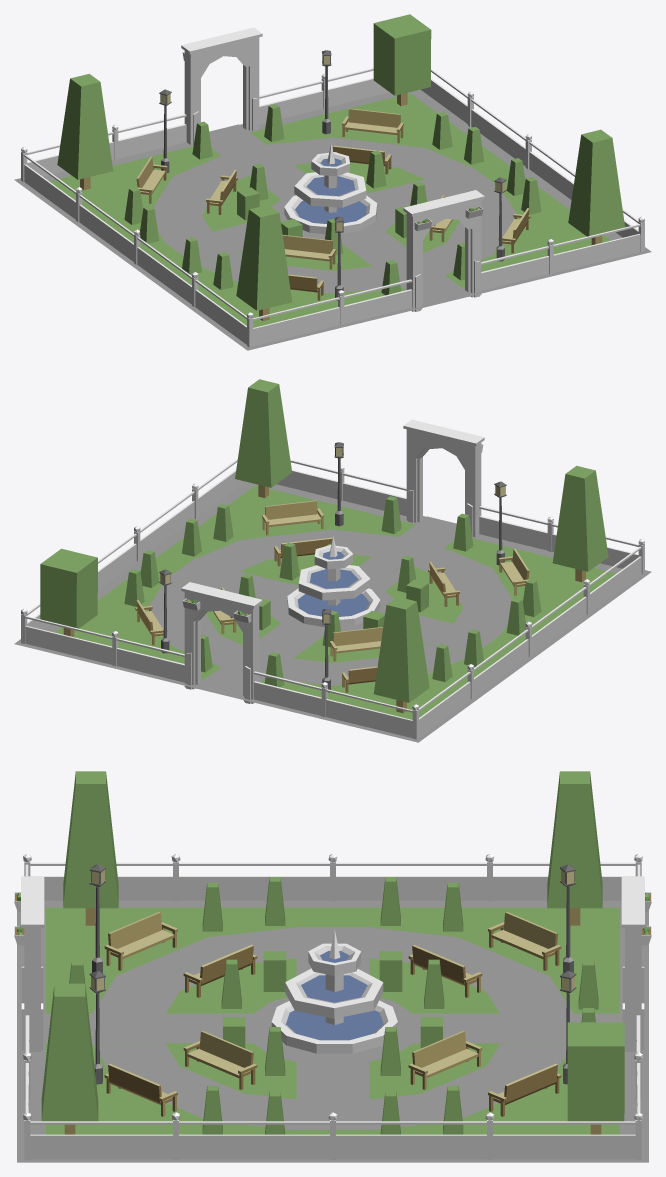
Rendered from park_003.fbx.
The picture shows the model from 3 angles, top to bottom: view 1: azimuth 30°, elevation 25°; view 2: azimuth 150°, elevation 25°; view 3: azimuth 270°, elevation 25°; orthographic projection. The views are drawn at different scales.
Parts seen in each view (by area): view 1: park_003; view 2: park_003; view 3: park_003.
Boxes of the visible parts, <box> form: park_003: <box>14,14,651,350</box>; park_003: <box>14,379,651,742</box>; park_003: <box>14,771,651,1162</box>.
Bounding box in the file's own units: 1600 × 485 × 1616.
